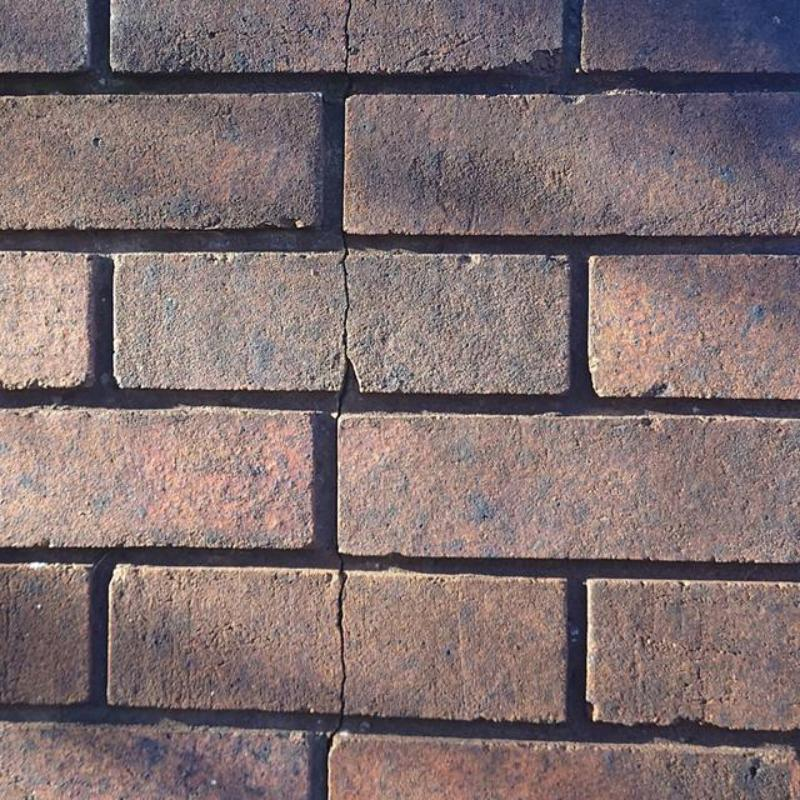pothole: (321, 0, 354, 799)
